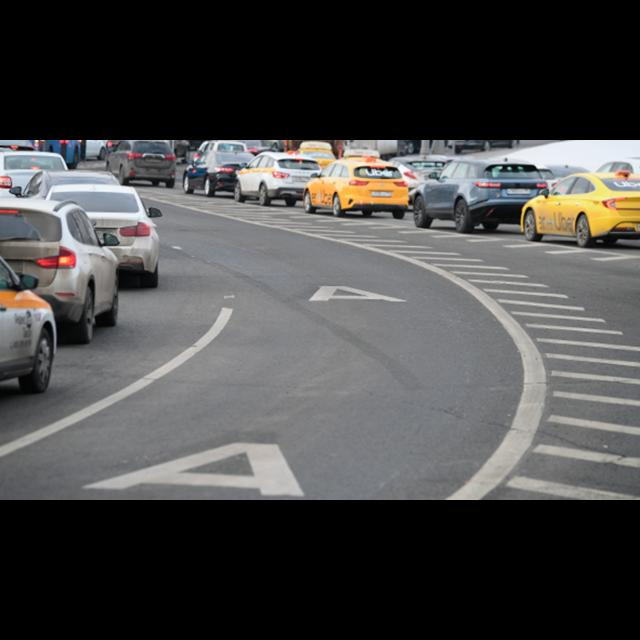road: (0, 182, 640, 500)
